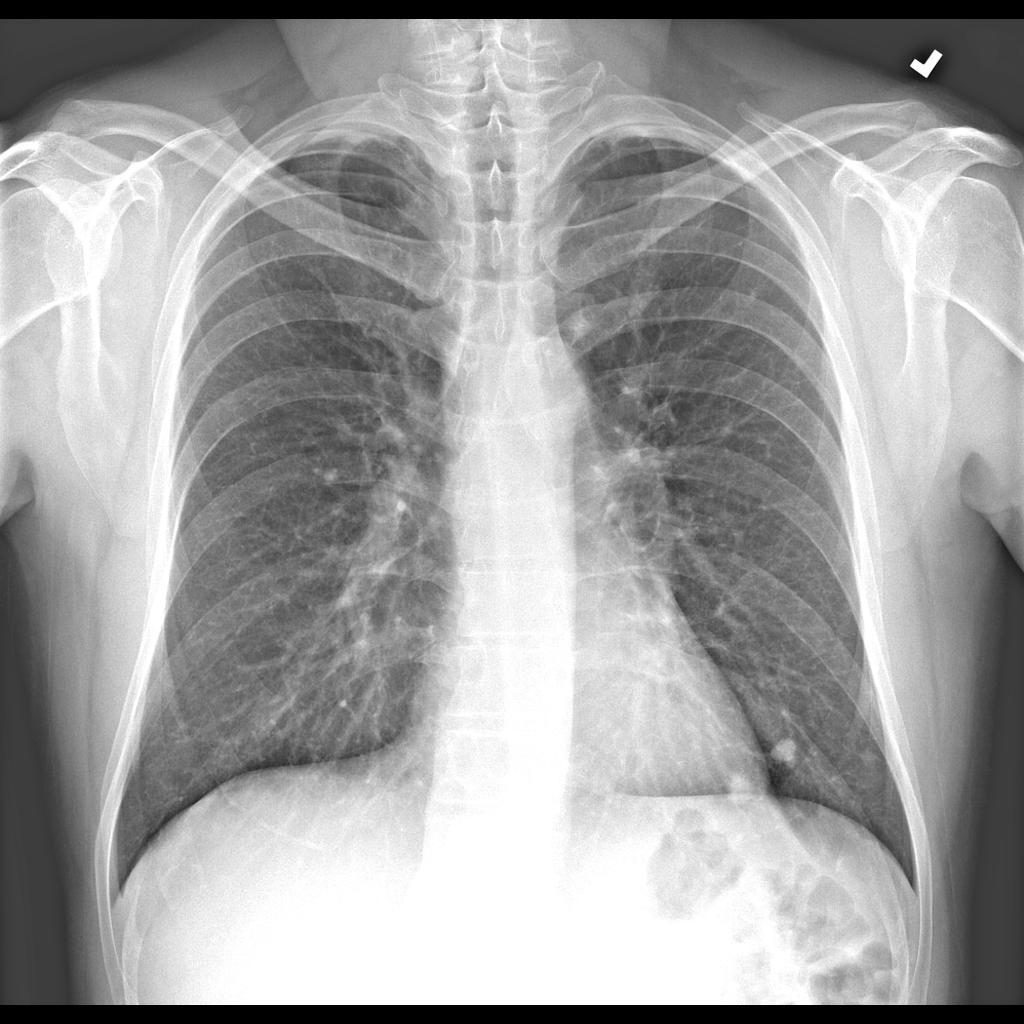Nodule: (763, 736, 810, 772), (726, 772, 755, 809)
